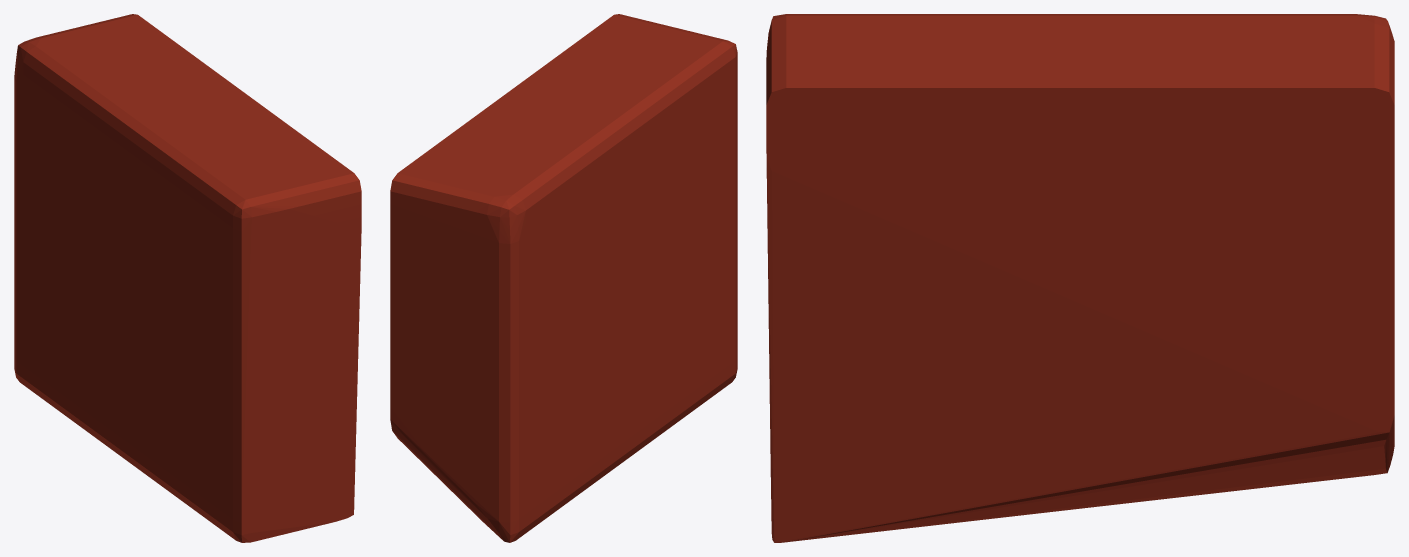
File: right_hip_yaw_link_part_15.obj
3 views of the same model, side by side, from view 1: azimuth 30°, elevation 25°; view 2: azimuth 150°, elevation 25°; view 3: azimuth 270°, elevation 25° (orthographic). The views are drawn at different scales.
Bounding box in the file's own units: 0.0124 × 0.0333 × 0.0408.
